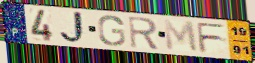4: (29, 8, 55, 43)
F: (195, 21, 229, 54)
G: (96, 14, 127, 47)
J: (59, 11, 89, 45)
M: (161, 18, 200, 54)
R: (126, 15, 161, 51)
